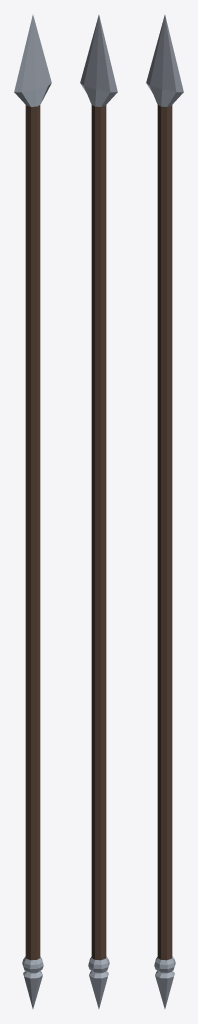
Rendered from Spear.fbx.
3 renders of one model, left to right at view 1: azimuth 30°, elevation 25°; view 2: azimuth 150°, elevation 25°; view 3: azimuth 330°, elevation 25°, orthographic.
Parts seen in each view (by area): view 1: Spear; view 2: Spear; view 3: Spear.
Boxes of the visible parts, x1,y1,x2,y2 form: Spear: [14, 15, 51, 1008]; Spear: [80, 15, 117, 1008]; Spear: [146, 15, 183, 1008].
Bounding box in the file's own units: 15.71 × 396 × 8.02.
